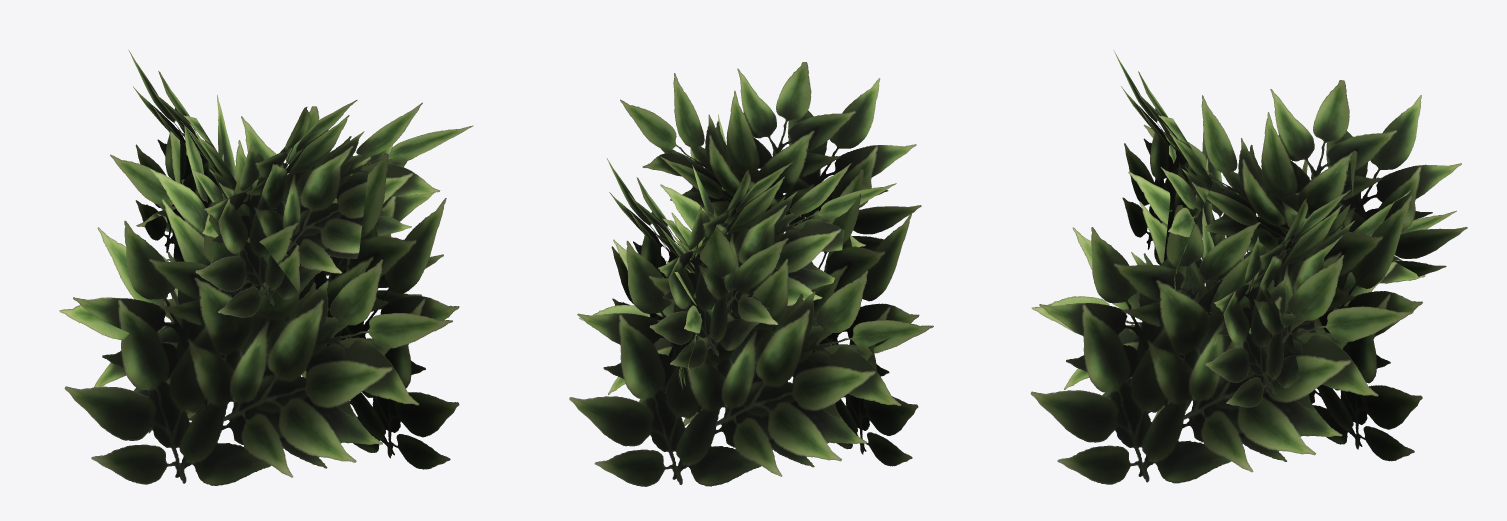
Rendered from leafy_shrub_small.DAE.
3 renders of one model, left to right at view 1: azimuth 30°, elevation 25°; view 2: azimuth 150°, elevation 25°; view 3: azimuth 270°, elevation 25°, orthographic. The views are drawn at different scales.
Visible parts, largest first — view 1: Plane02-Pivot; view 2: Plane02-Pivot; view 3: Plane02-Pivot.
Boxes of the visible parts, x1,y1,x2,y2 form: Plane02-Pivot: (59,49,473,485); Plane02-Pivot: (569,62,933,486); Plane02-Pivot: (1030,50,1467,484).
Size of the model in its own units: 3.75 by 3.26 by 3.95.
